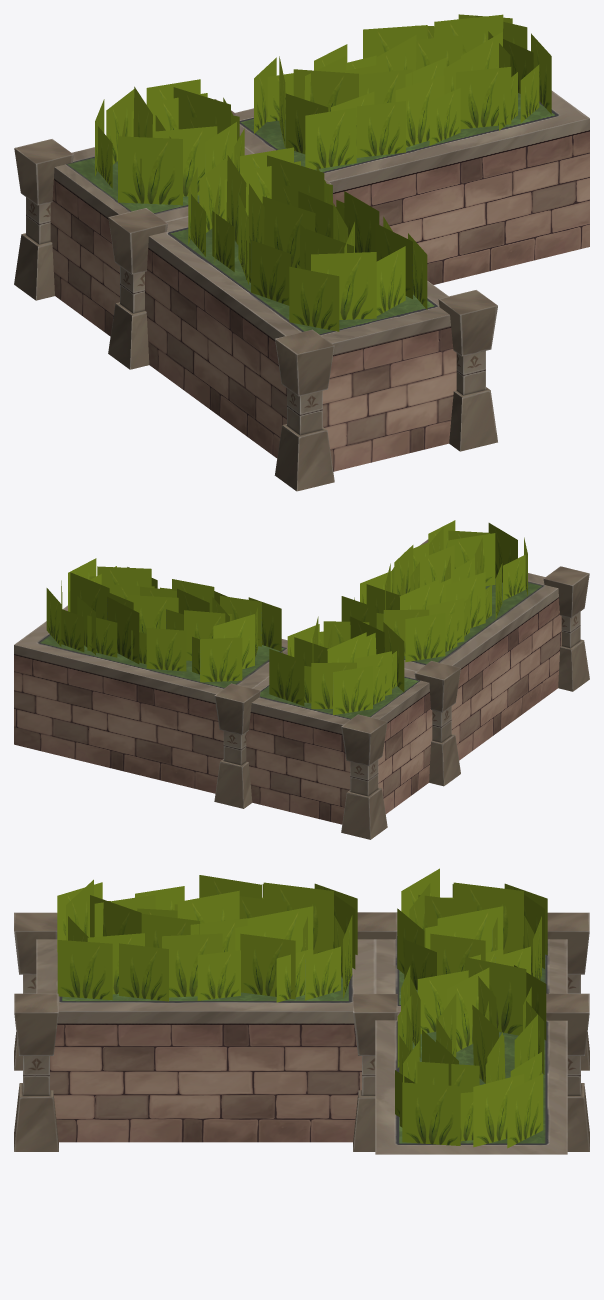
The model's file is wallGrass_corner_modular2.fbx.
3 views of the same model, one above another, from view 1: azimuth 30°, elevation 25°; view 2: azimuth 150°, elevation 25°; view 3: azimuth 270°, elevation 25° (orthographic). The views are drawn at different scales.
Visible parts, largest first — view 1: polySurface2488; view 2: polySurface2488; view 3: polySurface2488.
Part boxes in pixels (left/top/right/bottom): polySurface2488: left=14, top=14, right=589, bottom=491; polySurface2488: left=14, top=520, right=589, bottom=839; polySurface2488: left=14, top=868, right=589, bottom=1154.
Bounding box in the file's own units: 11.08 × 4.53 × 11.52.
